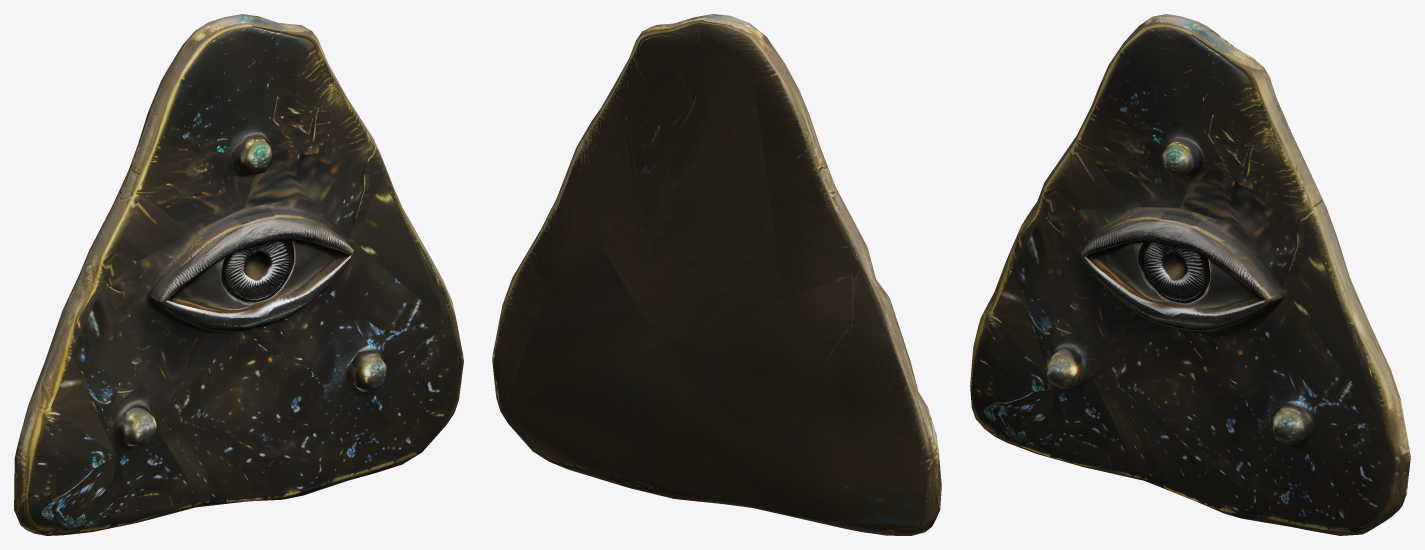
Rendered from talisman.fbx.
3 renders of one model, left to right at view 1: azimuth 30°, elevation 25°; view 2: azimuth 150°, elevation 25°; view 3: azimuth 330°, elevation 25°, orthographic. The views are drawn at different scales.
Parts seen in each view (by area): view 1: model; view 2: model; view 3: model.
Part boxes in pixels (x1,y1,x2,y2): model: (14,14,463,535); model: (492,14,941,535); model: (970,14,1410,535).
Size of the model in its own units: 554 by 585 by 67.09.
1 material, 1 textured.
